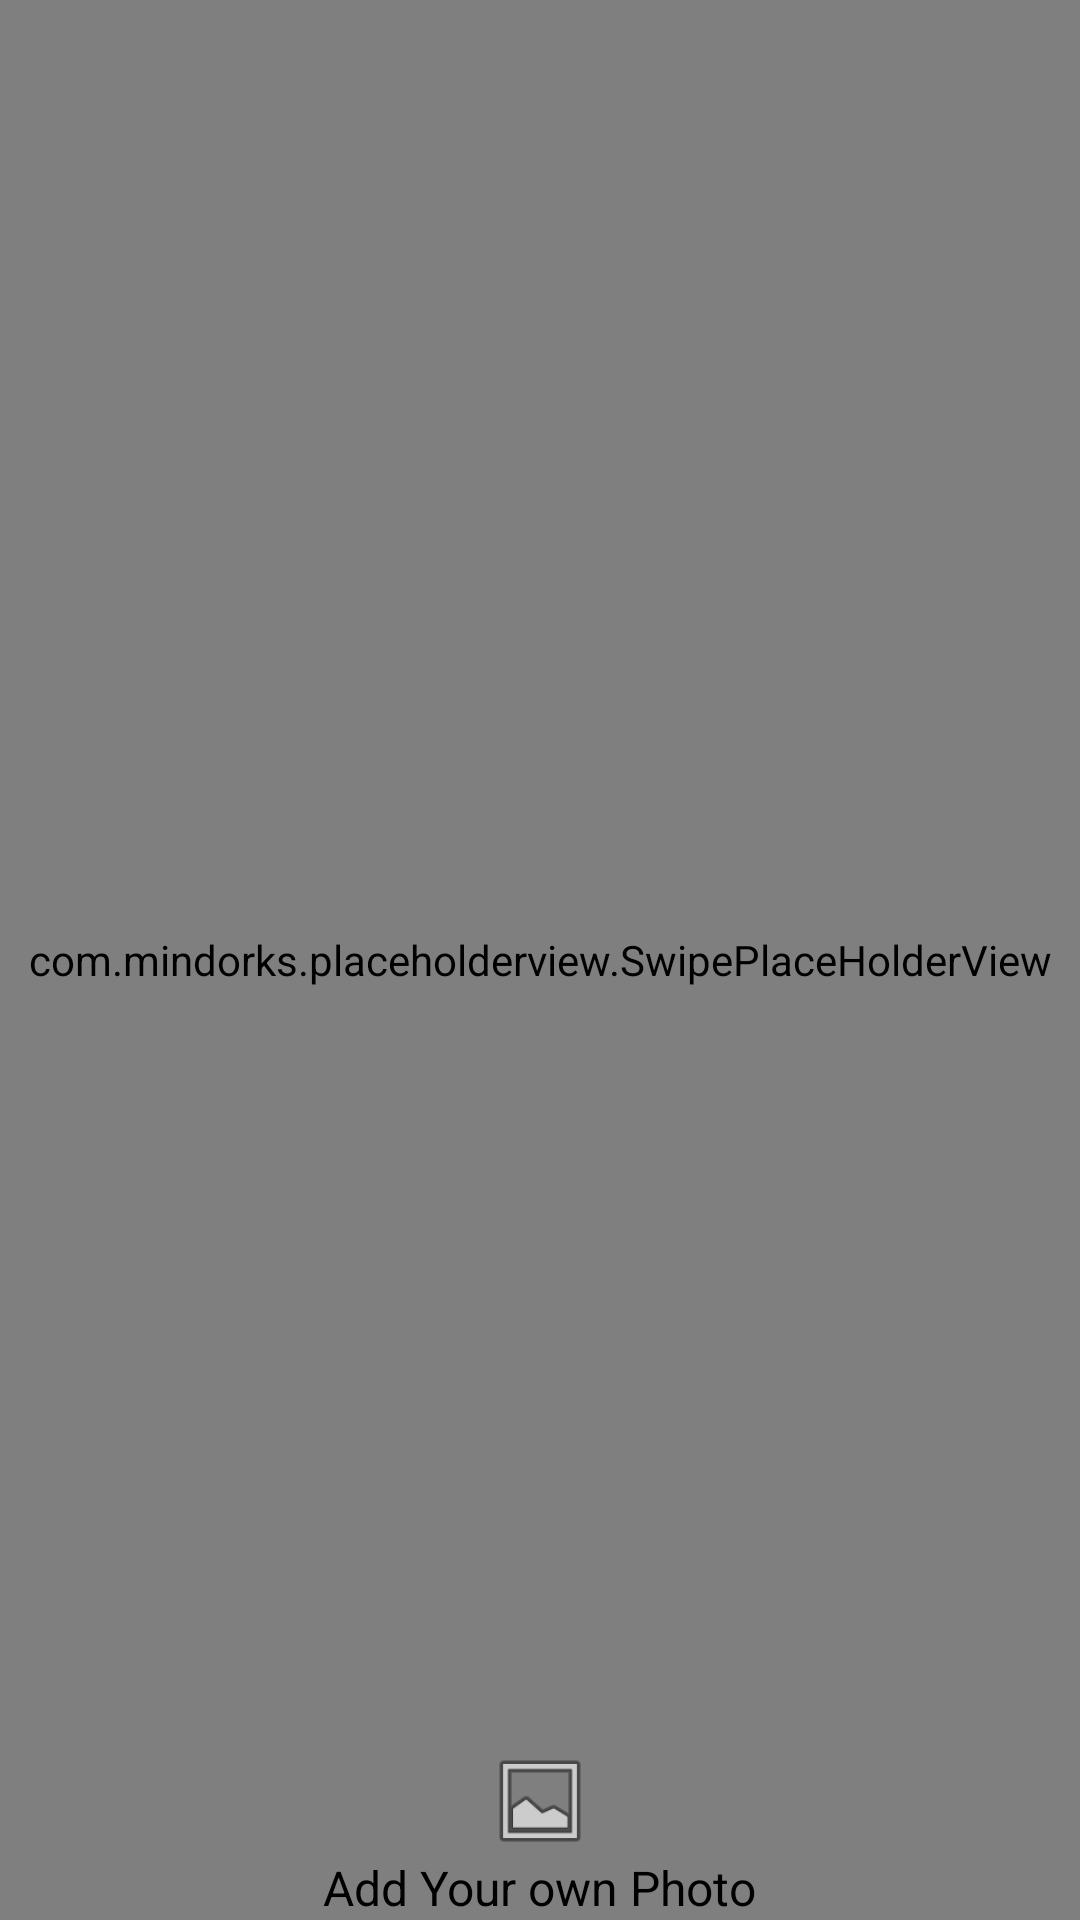

Icons on this 1080*1920 Android screen, each with its box as (x1, y1, x2, y2):
gallery: (500, 1760, 580, 1842)
